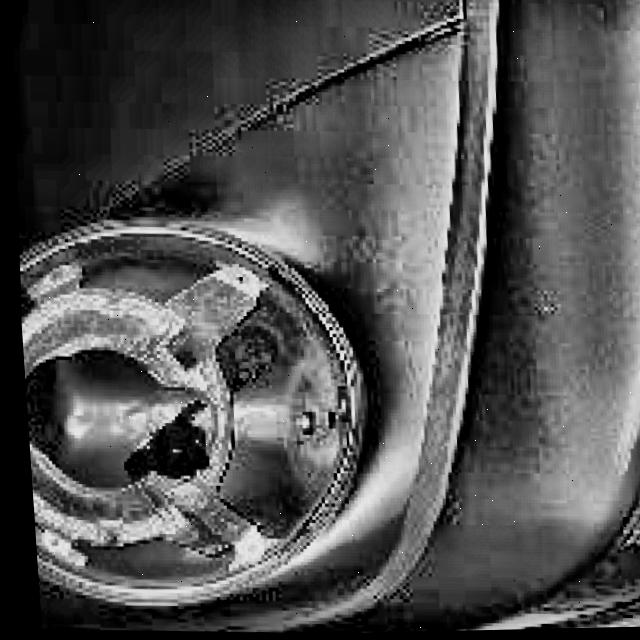head_lamp: (19, 276, 321, 580)
